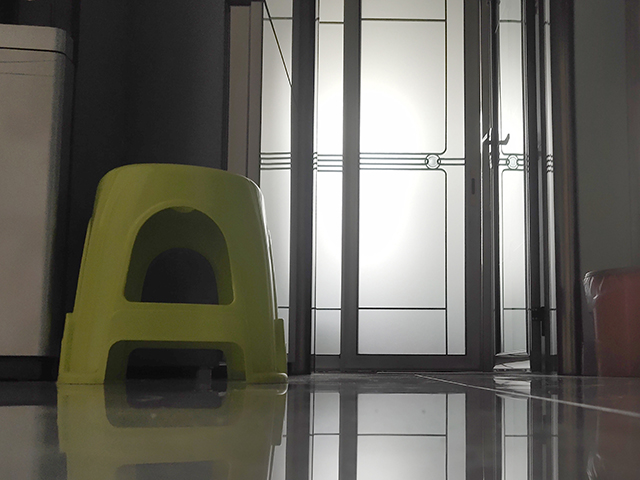stool: (55, 161, 291, 385)
trashcan: (582, 264, 640, 380)
